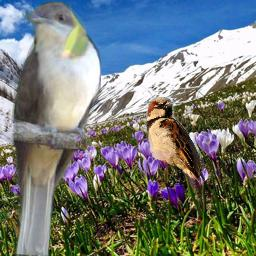Cuckoo: (8, 1, 101, 256)
Swallow: (145, 97, 205, 213)
